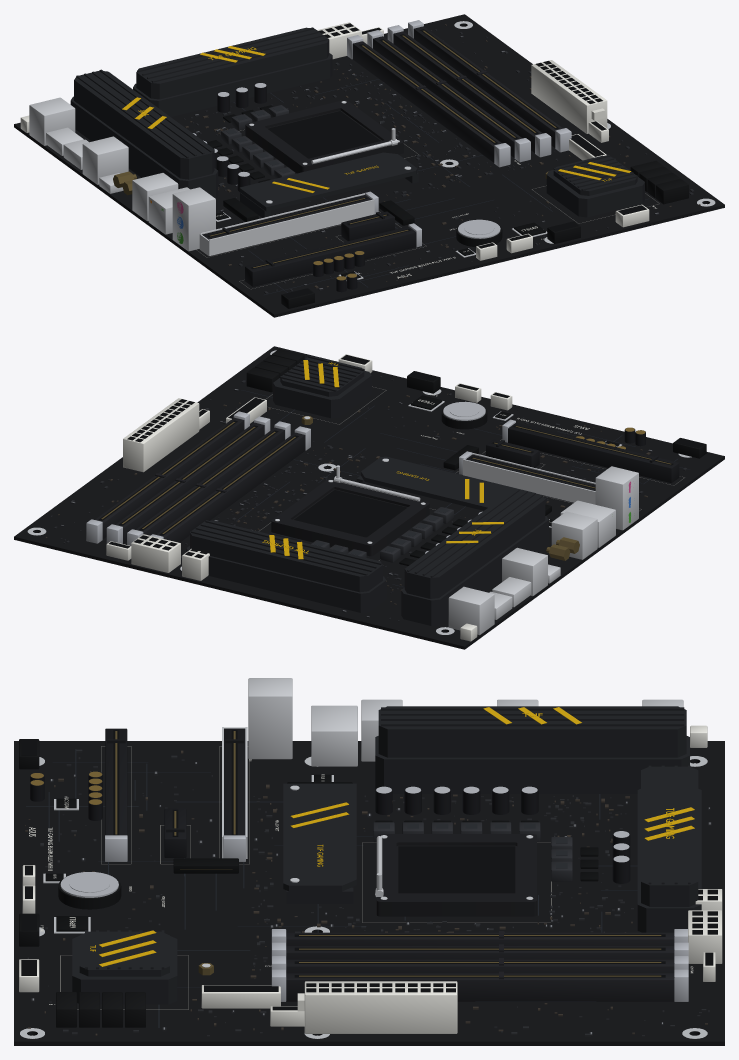
Rendered from asus-tuf-gaming-b550m-plus-wifi-ii.glb.
3 renders of one model, top to bottom at view 1: azimuth 30°, elevation 25°; view 2: azimuth 150°, elevation 25°; view 3: azimuth 270°, elevation 25°, orthographic. The views are drawn at different scales.
Visible parts, largest first — view 1: pcb_soldermask, sink_dark, steel_bright, dimm_slot2, ic_black, conn_white, pcie_slot, socket_body, dimm_latch, cap_body, gold_contact_dim, smd_body (+8 smaller); view 2: pcb_soldermask, sink_dark, steel_bright, dimm_slot2, ic_black, conn_white, pcie_slot, socket_body, gold_contact_dim, dimm_latch, choke_ferrite2, sata_conn_colour (+6 smaller); view 3: pcb_soldermask, sink_dark, dimm_slot2, ic_black, conn_white, steel_bright, socket_body, pcie_slot, cap_body, dimm_latch, gold_contact_dim, sata_conn_colour (+11 smaller).
Boxes of the visible parts, bbox=[...] form: pcb_soldermask: bbox=[14, 14, 724, 317]; sink_dark: bbox=[70, 27, 644, 217]; steel_bright: bbox=[29, 97, 411, 255]; dimm_slot2: bbox=[352, 26, 562, 162]; ic_black: bbox=[207, 23, 646, 298]; conn_white: bbox=[20, 22, 649, 260]; pcie_slot: bbox=[202, 195, 416, 286]; socket_body: bbox=[245, 100, 403, 173]; dimm_latch: bbox=[347, 20, 571, 247]; cap_body: bbox=[192, 83, 364, 292]; gold_contact_dim: bbox=[113, 30, 556, 267]; smd_body: bbox=[184, 29, 694, 294]; pcb_soldermask: bbox=[14, 346, 724, 649]; sink_dark: bbox=[186, 355, 548, 625]; steel_bright: bbox=[275, 416, 638, 634]; dimm_slot2: bbox=[95, 417, 305, 543]; ic_black: bbox=[98, 355, 704, 565]; conn_white: bbox=[106, 354, 512, 641]; pcie_slot: bbox=[466, 423, 679, 490]; socket_body: bbox=[271, 478, 429, 556]; gold_contact_dim: bbox=[101, 416, 670, 560]; dimm_latch: bbox=[86, 411, 515, 545]; choke_ferrite2: bbox=[311, 507, 453, 562]; sata_conn_colour: bbox=[246, 349, 304, 392]; pcb_soldermask: bbox=[14, 741, 724, 1045]; sink_dark: bbox=[72, 706, 701, 1004]; dimm_slot2: bbox=[286, 931, 674, 1001]; ic_black: bbox=[21, 730, 717, 1010]; conn_white: bbox=[19, 725, 722, 1033]; steel_bright: bbox=[202, 678, 683, 967]; socket_body: bbox=[376, 834, 536, 916]; pcie_slot: bbox=[105, 728, 245, 857]; cap_body: bbox=[30, 771, 630, 883]; dimm_latch: bbox=[105, 835, 688, 1001]; gold_contact_dim: bbox=[115, 731, 661, 976]; sata_conn_colour: bbox=[56, 992, 145, 1027].
Bounding box in the file's own units: 0.244 × 0.0266 × 0.244.
